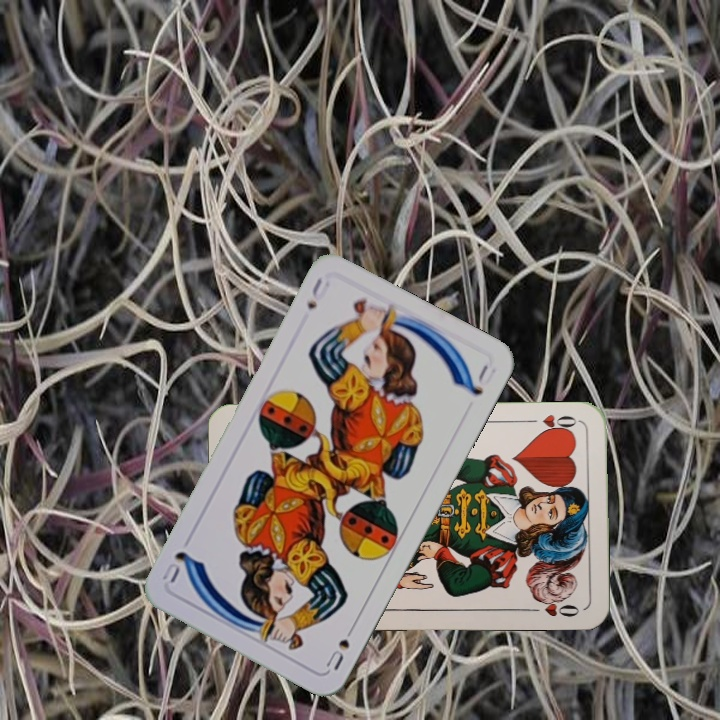HO: (523, 410, 582, 436)
SU: (321, 619, 359, 673), (303, 273, 333, 312)
